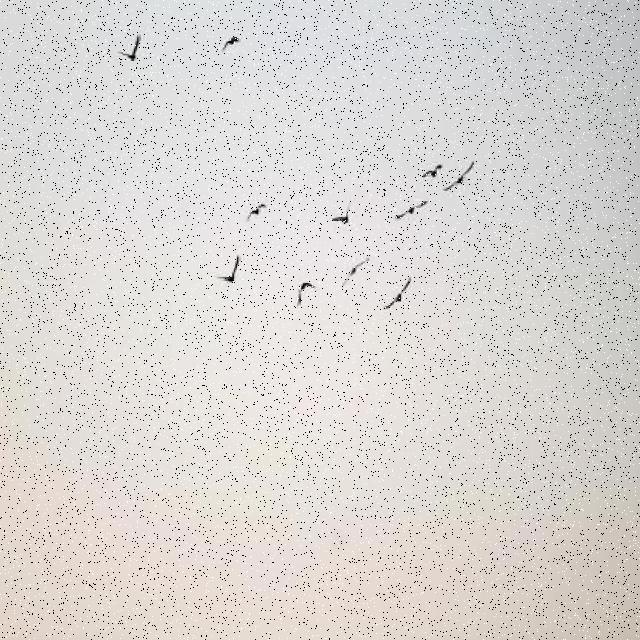bird: (343, 259, 371, 287), (446, 164, 472, 193), (385, 280, 410, 309), (218, 258, 242, 286), (396, 200, 429, 220), (119, 36, 141, 61), (297, 281, 317, 304), (246, 202, 268, 222), (330, 206, 350, 225), (422, 164, 446, 178), (222, 36, 240, 52)
